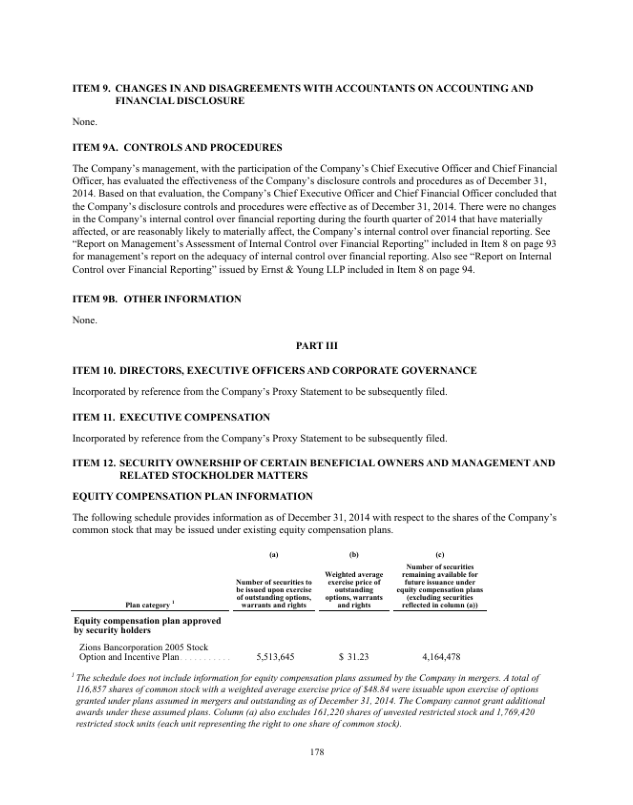table: (67, 541, 491, 671)
